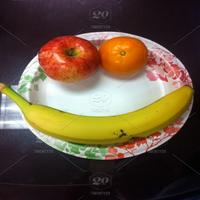apple: (29, 31, 98, 89)
banane: (3, 82, 194, 142)
orange: (99, 30, 151, 84)
